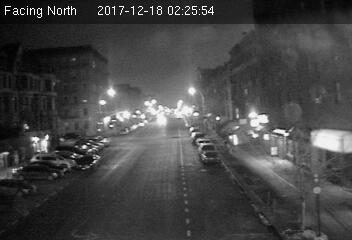car: (74, 155, 100, 170), (200, 150, 220, 163)
